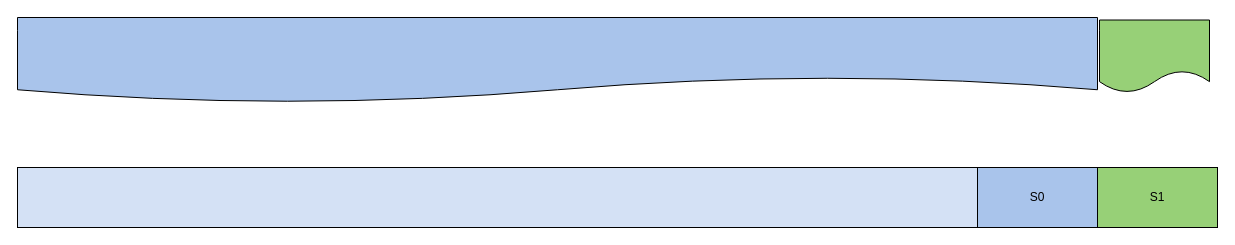
The diagram is 1235 pixels wide and 245 high, and some of its shapes have lost their labels. Here are the shapes that lost their labels. From the top down, the box of each, then its label:
(16, 16, 1098, 102): 存活对象
(16, 166, 978, 228): Eden
